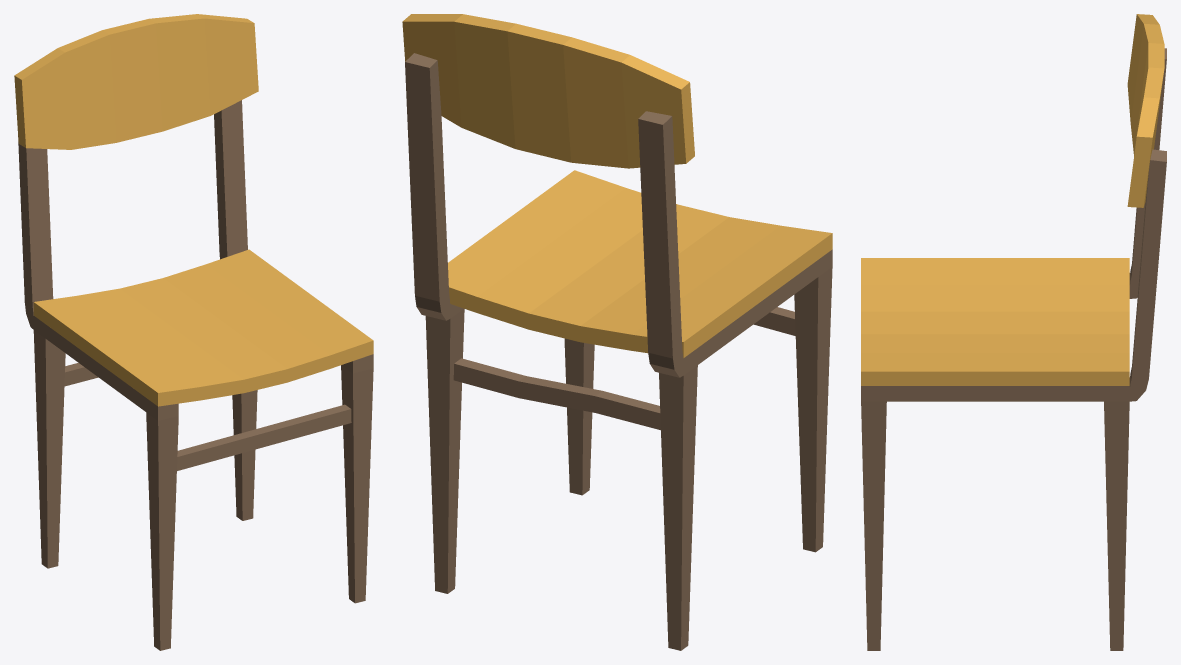
Rendered from Wh_Chair_01.fbx.
3 renders of one model, left to right at view 1: azimuth 30°, elevation 25°; view 2: azimuth 150°, elevation 25°; view 3: azimuth 270°, elevation 25°, orthographic. The views are drawn at different scales.
Visible parts, largest first — view 1: Cube.812; view 2: Cube.812; view 3: Cube.812.
Boxes of the visible parts, bbox=[...] form: Cube.812: bbox=[14, 14, 373, 650]; Cube.812: bbox=[402, 14, 832, 650]; Cube.812: bbox=[861, 14, 1166, 650].
Bounding box in the file's own units: 52.53 × 108 × 55.36.
